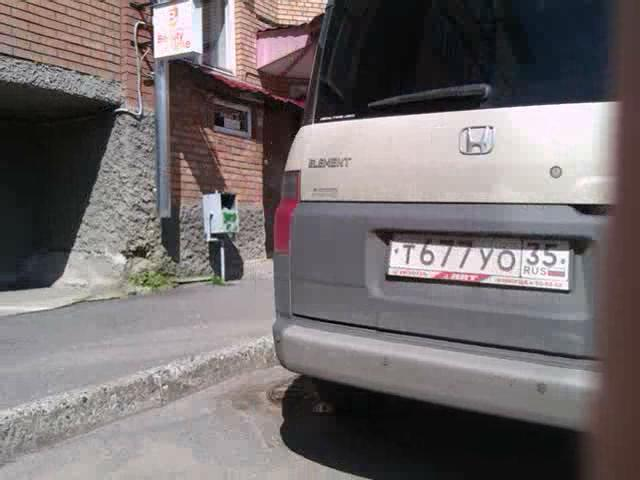car license plate: (384, 233, 577, 294)
